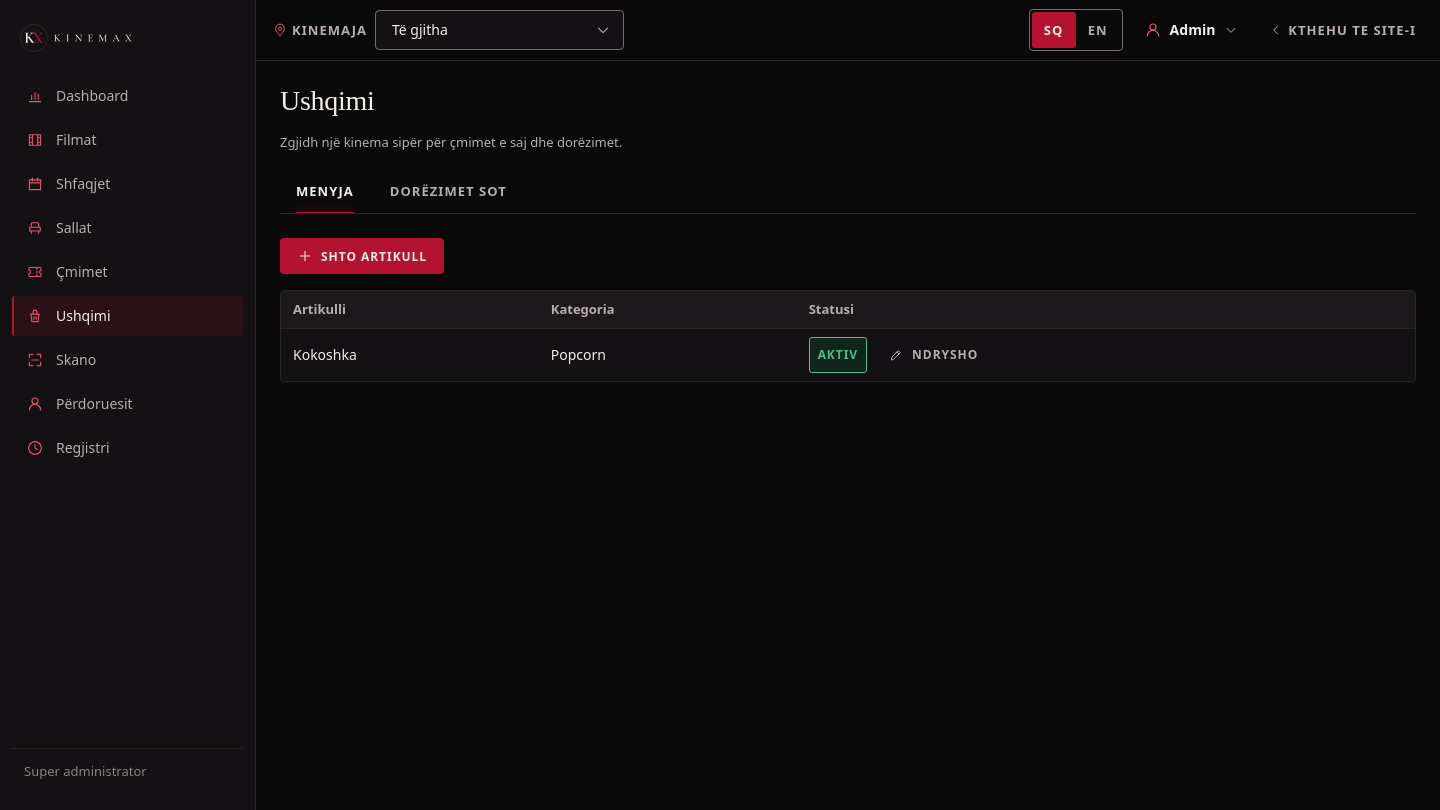
Scenario: the food page › shows a clear error when a new item is refused, and refuses a bad price
Click the button "Shto artikull".
click(362, 256)  # box [280,238,444,274]
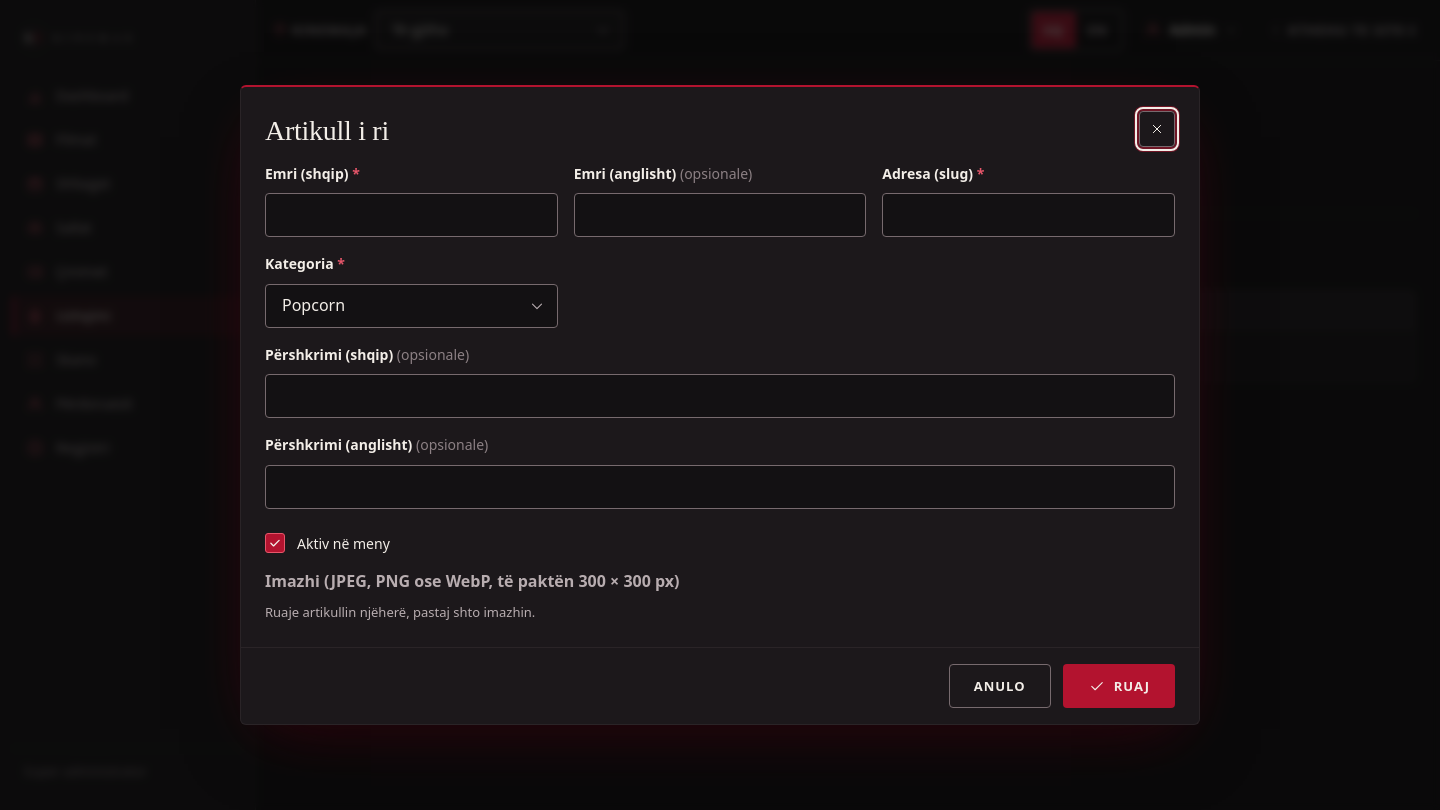
Select "Kombo" in the dropdown labelled "Kategoria *" at (411, 306), box [265,284,558,328]
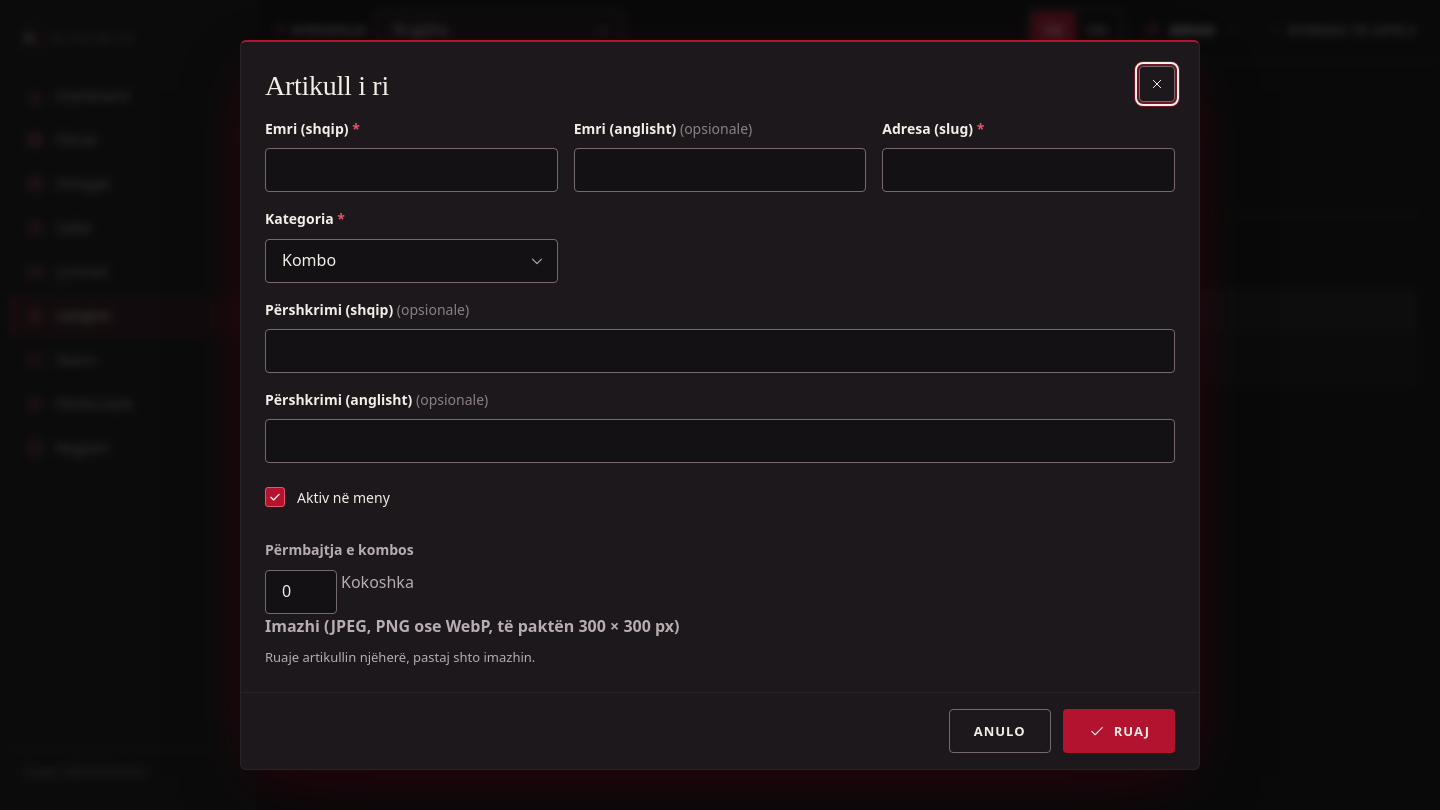
Click the button "Ruaj".
click(1119, 731)  # box [1063,709,1175,753]
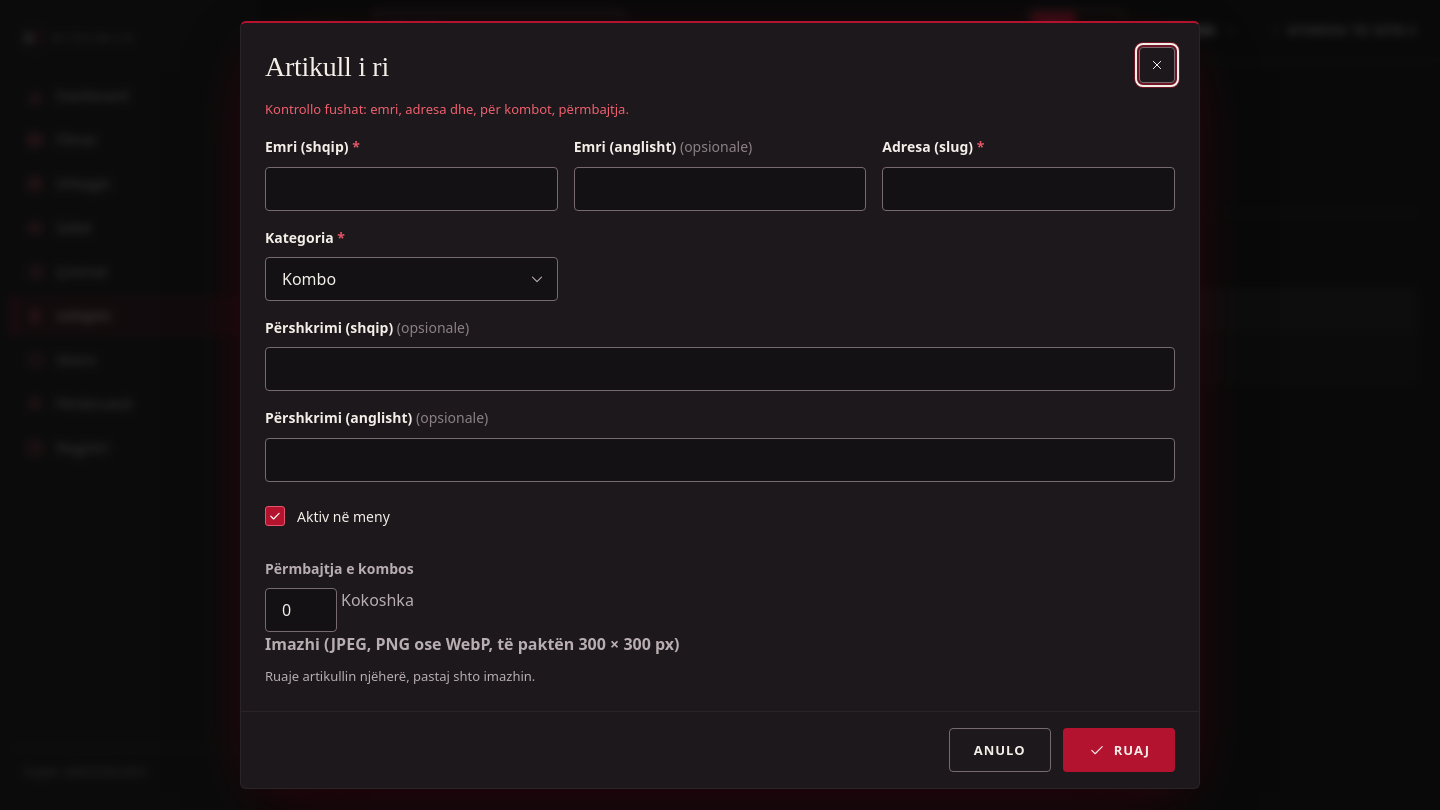
Expected: the message shows "Kontrollo fushat", [265,100,629,118]
Click the button "Anulo".
click(1000, 750)  # box [949,728,1051,772]
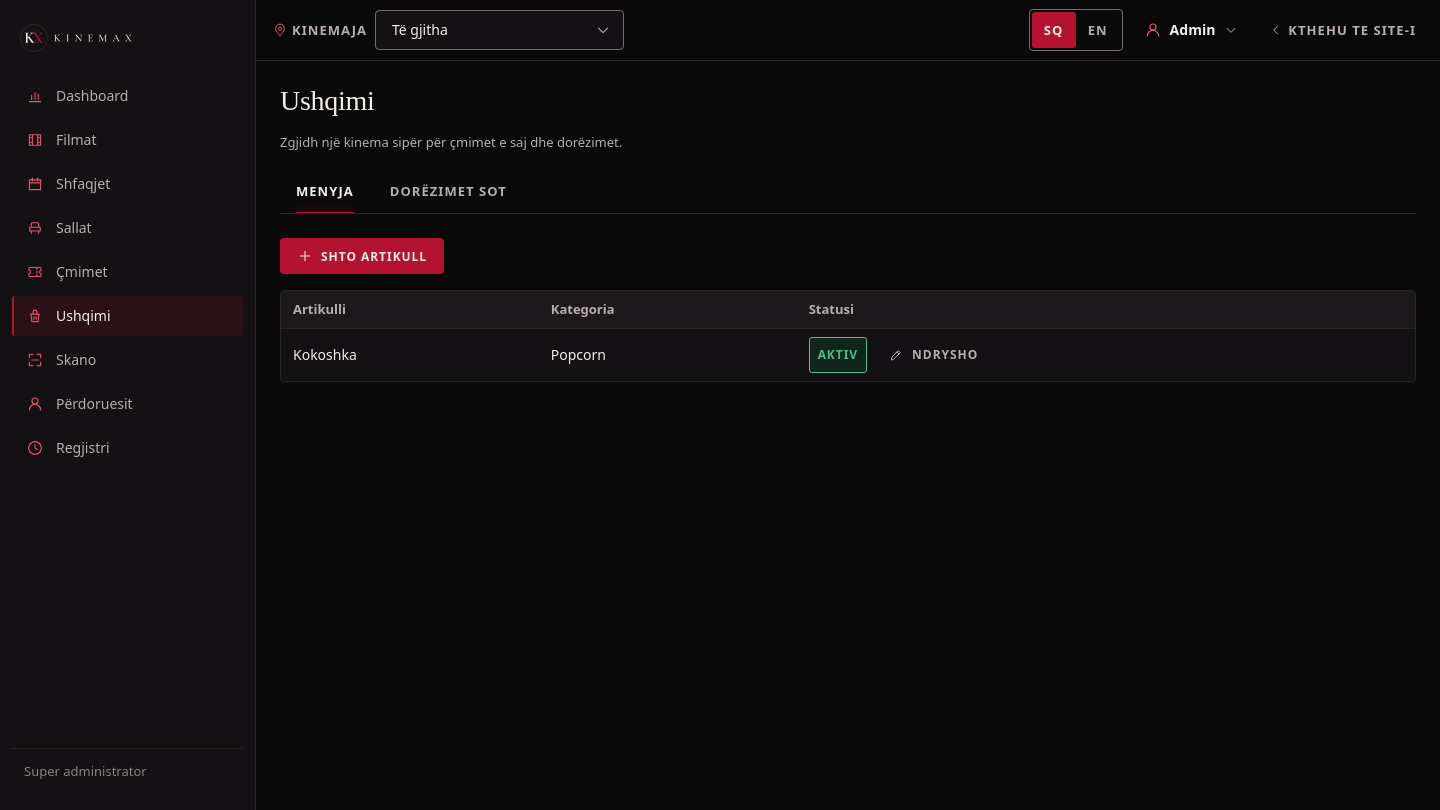
Expected: the number field labelled "Çmimi: Kokoshka" is gone
